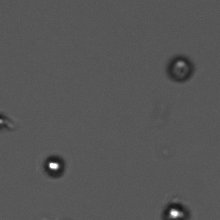Dead Cell: (167, 52, 194, 86)
Living Cell: (157, 198, 196, 217), (43, 153, 70, 180)
